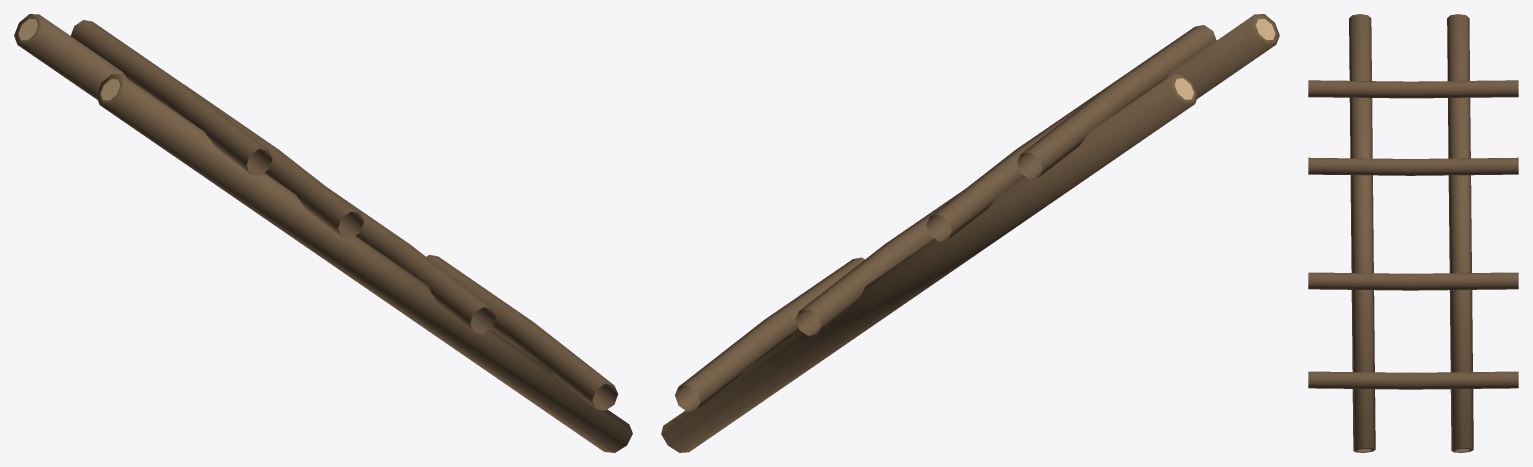
File: rpgpp_ag_roof_support_01_9x4x3_half_b.fbx
3 views of the same model, side by side, from view 1: azimuth 30°, elevation 25°; view 2: azimuth 150°, elevation 25°; view 3: azimuth 270°, elevation 25° (orthographic). The views are drawn at different scales.
Visible parts, largest first — view 1: rpgpp_ag_roof_support_01_9x4x3_half_b; view 2: rpgpp_ag_roof_support_01_9x4x3_half_b; view 3: rpgpp_ag_roof_support_01_9x4x3_half_b.
Boxes of the visible parts, left/top/right/bottom form: rpgpp_ag_roof_support_01_9x4x3_half_b: left=14, top=14, right=632, bottom=452; rpgpp_ag_roof_support_01_9x4x3_half_b: left=661, top=14, right=1279, bottom=452; rpgpp_ag_roof_support_01_9x4x3_half_b: left=1308, top=14, right=1518, bottom=452.
Size of the model in its own units: 5.25 by 4.68 by 3.
